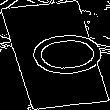O_E: (6, 29, 104, 81)
